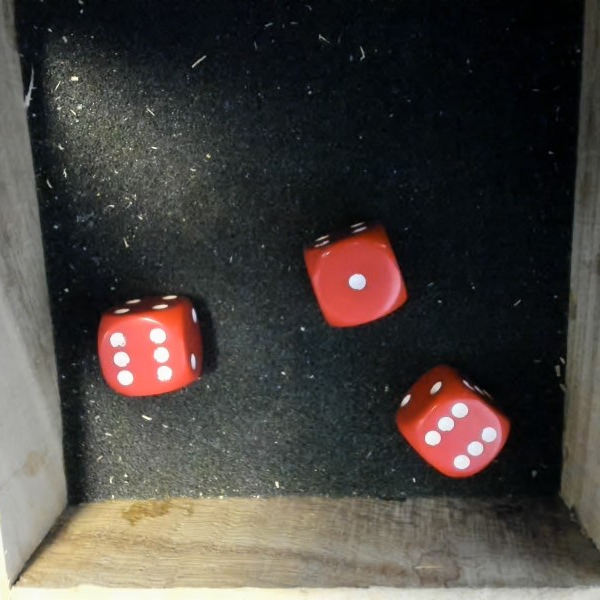red_die_pip1: (303, 214, 410, 333)
red_die_pip6: (384, 354, 526, 495), (93, 290, 212, 398)
